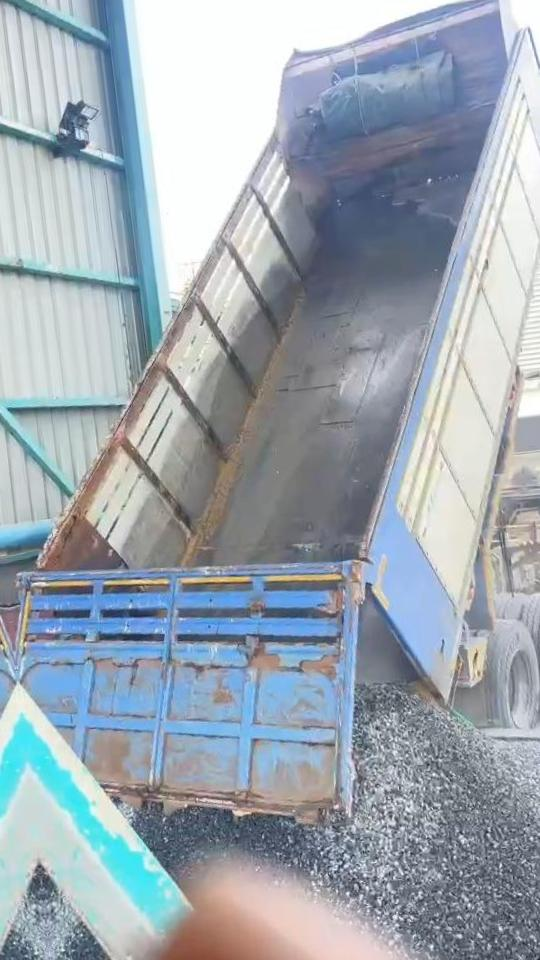gravel: (136, 689, 540, 960), (39, 863, 121, 960)
